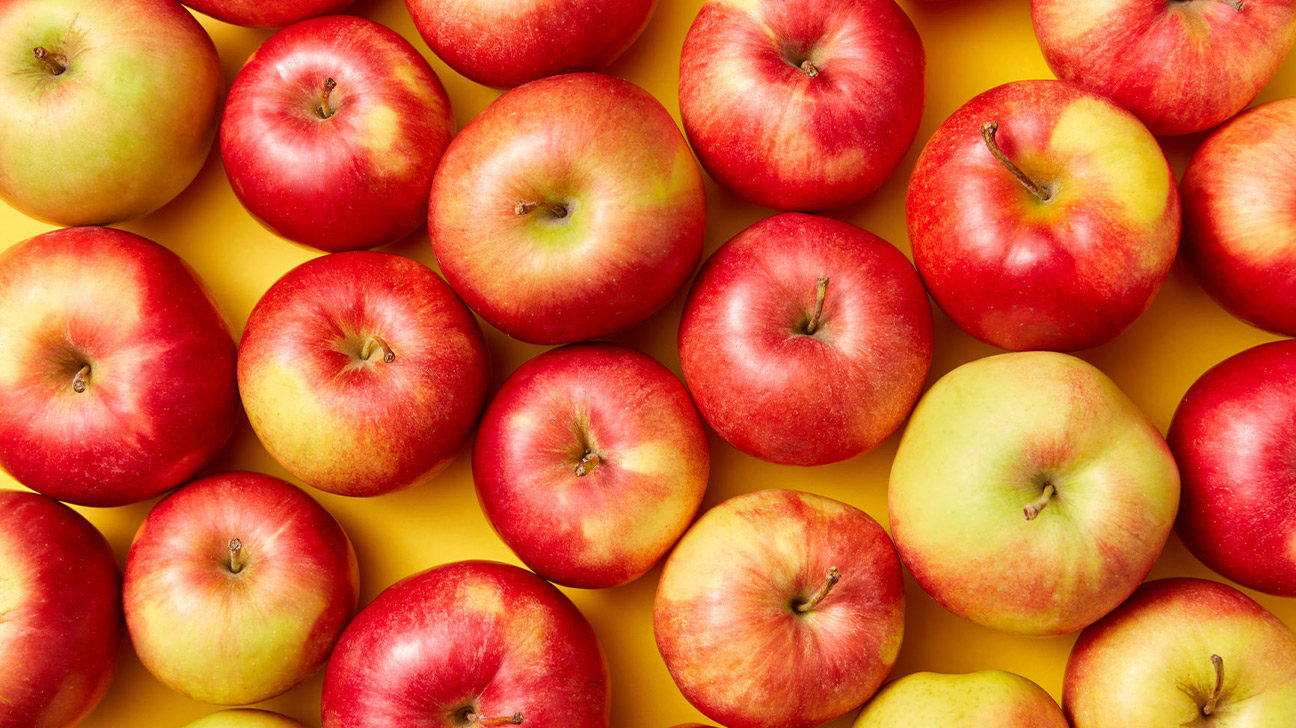Apple: (871, 87, 1204, 359), (869, 352, 1178, 635), (397, 68, 710, 331), (593, 479, 912, 724), (1, 224, 254, 483), (102, 459, 358, 694), (475, 350, 706, 596), (297, 546, 619, 722), (8, 11, 234, 224)
